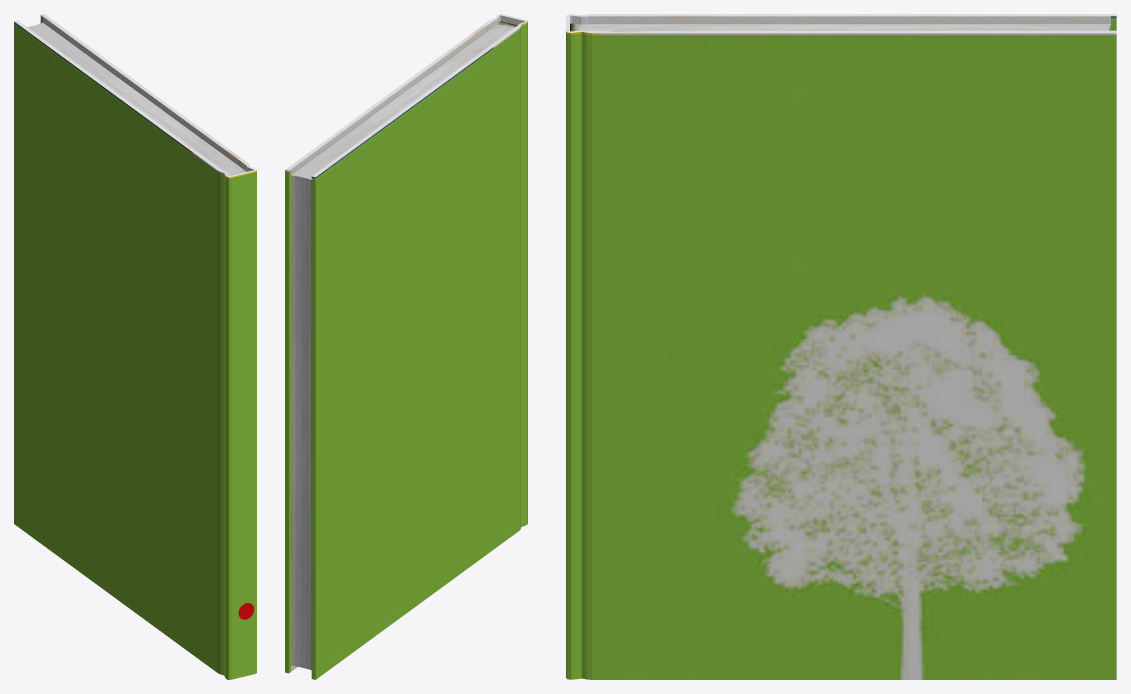
The model's file is Book_4.fbx.
3 views of the same model, side by side, from view 1: azimuth 30°, elevation 25°; view 2: azimuth 150°, elevation 25°; view 3: azimuth 270°, elevation 25° (orthographic). The views are drawn at different scales.
Parts seen in each view (by area): view 1: Book_4; view 2: Book_4; view 3: Book_4.
Boxes of the visible parts, x1,y1,x2,y2 form: Book_4: (14, 14, 256, 679); Book_4: (285, 14, 527, 679); Book_4: (566, 14, 1116, 679).
Size of the model in its own units: 2.1 by 33 by 25.9.
